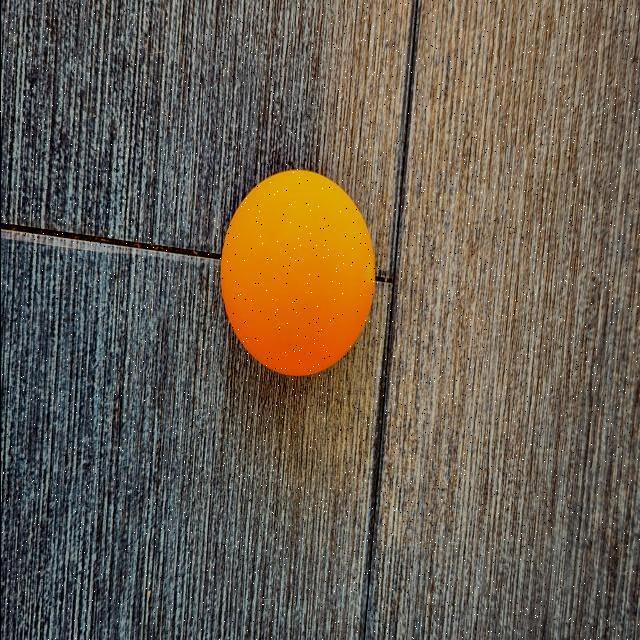ping-pong-ball: (208, 156, 382, 399)
